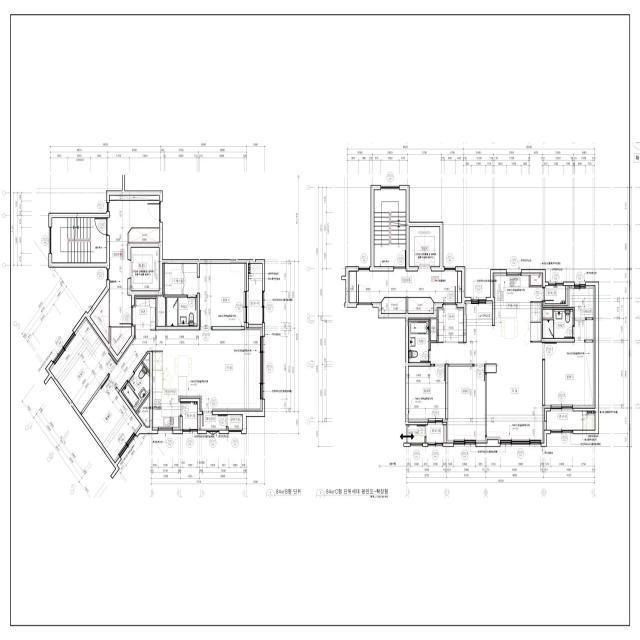space_balconi: (547, 411, 595, 430), (249, 264, 262, 324), (183, 402, 197, 429), (545, 286, 565, 303), (426, 425, 444, 443)
space_bedroom: (49, 317, 117, 413), (82, 378, 141, 463), (545, 320, 595, 408), (446, 367, 487, 443), (200, 263, 246, 327), (408, 366, 445, 422)
space_dressroom: (165, 264, 197, 295), (568, 286, 595, 318)
space_elevator: (409, 227, 440, 266), (131, 248, 159, 291)
space_elevator_hall: (109, 201, 159, 327), (357, 271, 457, 303)
space_front: (439, 305, 463, 343), (133, 299, 156, 330)
space_kitchen: (492, 273, 542, 342), (153, 351, 180, 430)
space_living_room: (431, 301, 545, 443), (109, 328, 262, 411)
space_other: (90, 290, 109, 343), (111, 327, 131, 355), (128, 228, 159, 243), (137, 396, 150, 427), (200, 415, 226, 430), (408, 298, 434, 313), (381, 298, 406, 313), (110, 195, 159, 200), (157, 296, 165, 326), (349, 271, 356, 303), (430, 318, 437, 341), (530, 273, 543, 285), (458, 271, 462, 302), (143, 354, 150, 371), (543, 310, 552, 318)
space_outdoor_room: (408, 425, 425, 443), (227, 415, 242, 430)
space_staircase: (374, 190, 406, 267), (52, 218, 106, 263)
space_toilet: (121, 363, 150, 412), (167, 297, 197, 326), (543, 310, 573, 338), (409, 322, 429, 362)
